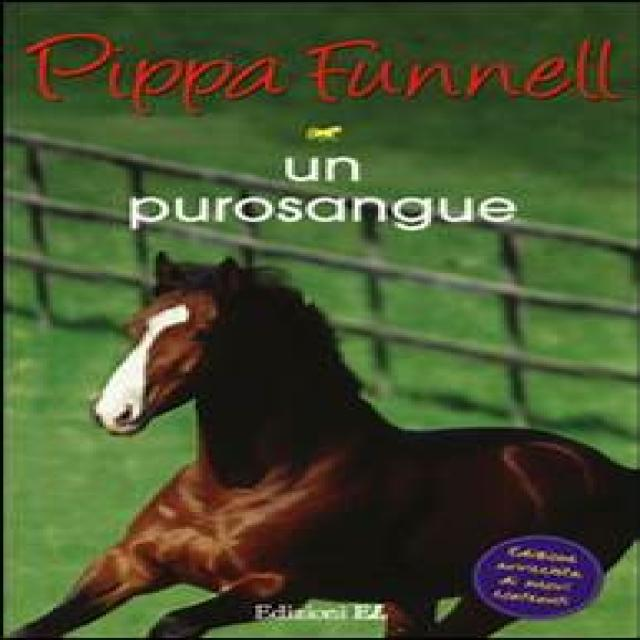horse: (10, 258, 640, 640)
